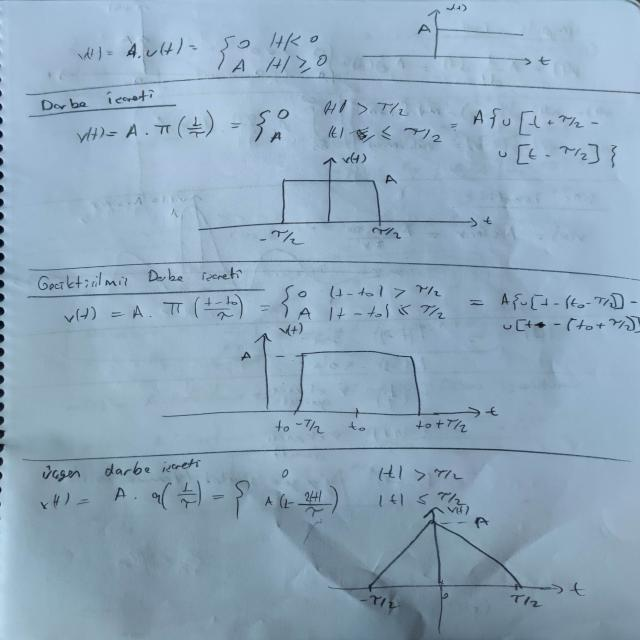image: (150, 318, 504, 439), (315, 507, 594, 632), (184, 147, 496, 249), (349, 0, 558, 77)
math: (51, 104, 614, 144), (278, 278, 640, 340), (31, 484, 468, 520), (72, 26, 344, 79), (60, 293, 265, 320), (489, 138, 624, 175), (368, 460, 465, 484)
text: (31, 266, 248, 295), (30, 451, 210, 482), (30, 88, 168, 110)
